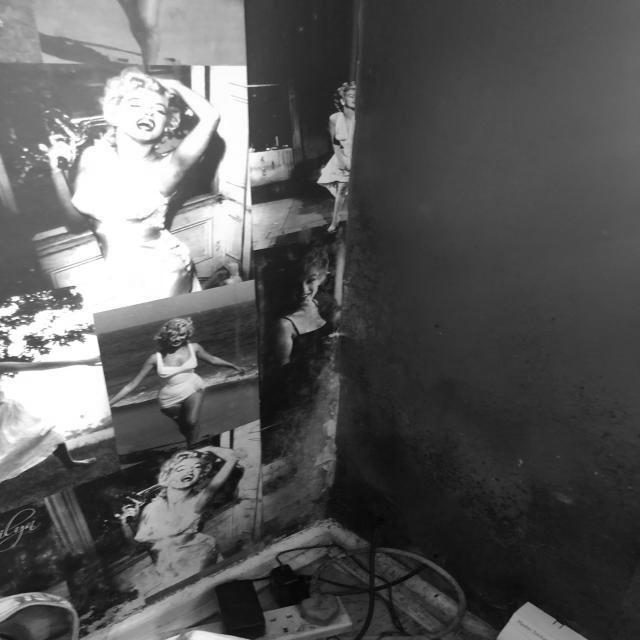stain marks: (406, 342, 530, 620), (531, 405, 640, 628), (341, 210, 406, 546), (352, 0, 399, 133)
